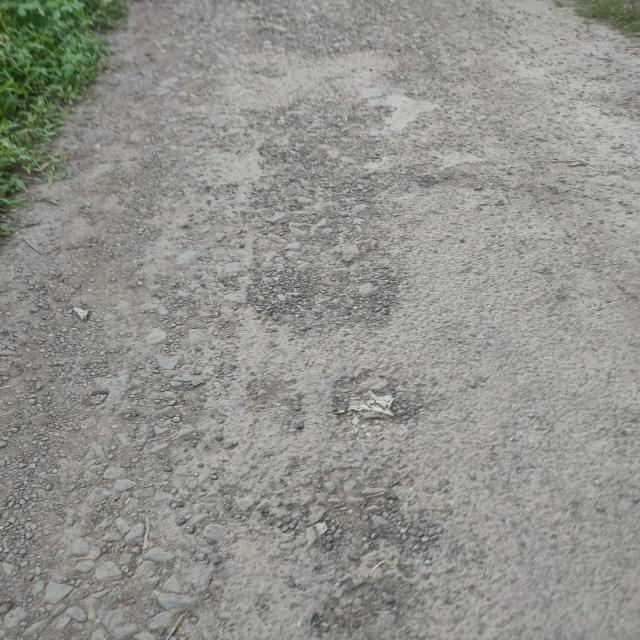cracks: (242, 95, 409, 333)
